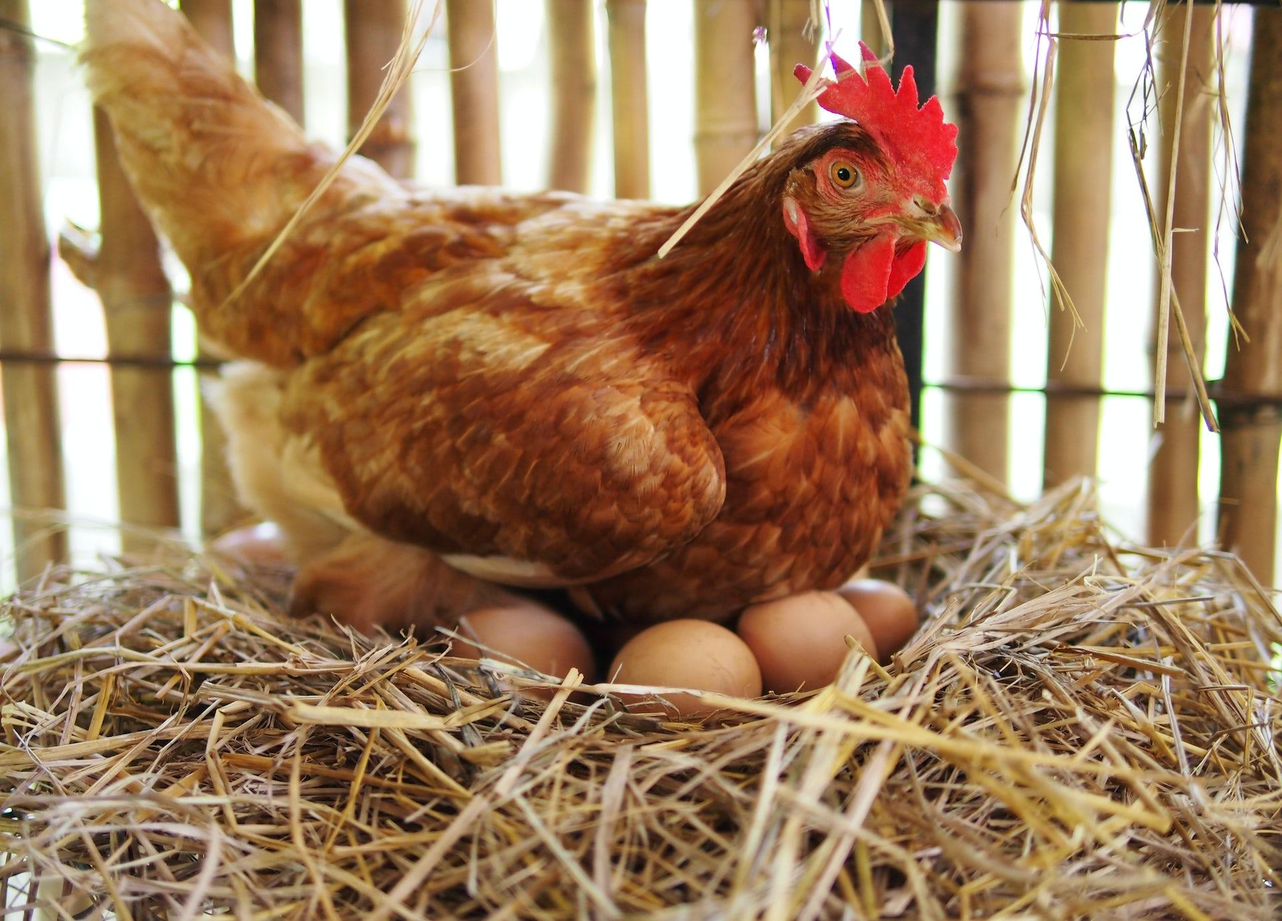egg: (611, 601, 765, 725), (441, 594, 604, 701), (755, 571, 875, 705), (831, 564, 921, 661)
